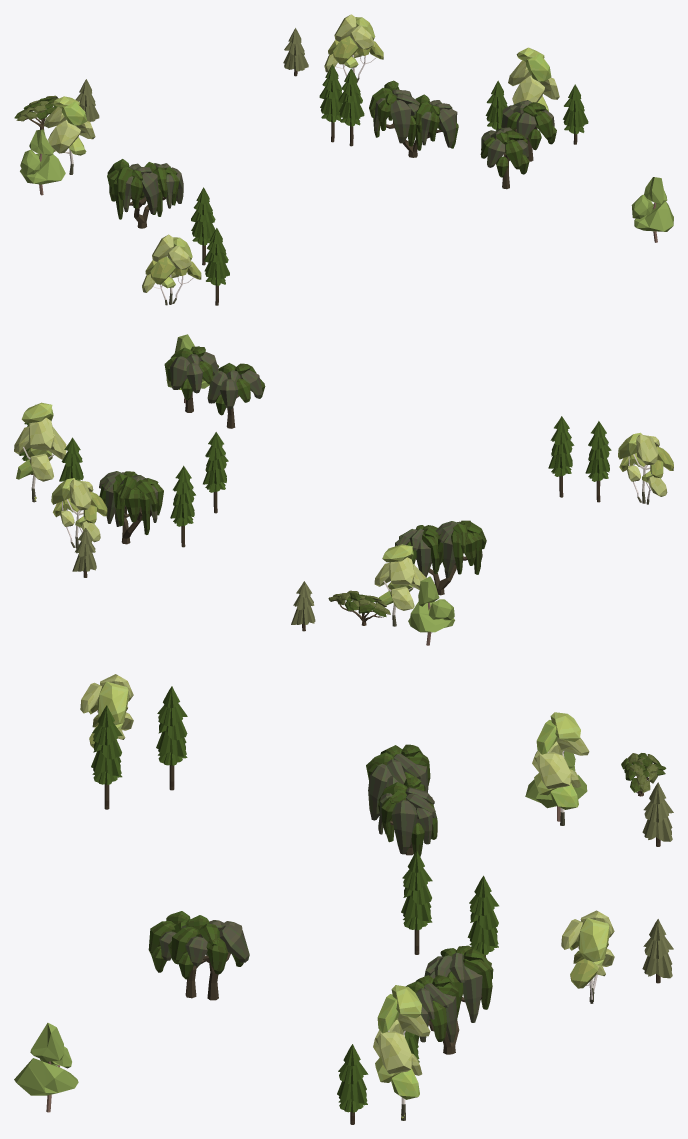
Rendered from trees2.gltf.
3 renders of one model, top to bottom at view 1: azimuth 30°, elevation 25°; view 2: azimuth 150°, elevation 25°; view 3: azimuth 270°, elevation 25°, orthographic. The views are drawn at different scales.
Parts seen in each view (by area): view 1: Tree Type6 04 (1), Tree Type6 04, Tree Type5 04, Tree Type5 04 (2), Tree Type5 03 (1), Tree Type5 03, Tree Type6 02 (1), Tree Type6 02, Tree Type4 01, Tree Type4 01 (1), Tree Type2 05 (2), Tree Type2 05 (1) (+7 smaller); view 2: Tree Type6 04, Tree Type6 04 (1), Tree Type5 03, Tree Type5 04, Tree Type5 04 (2), Tree Type5 03 (1), Tree Type6 02 (1), Tree Type6 02, Tree Type4 01 (1), Tree Type2 05 (2), Tree Type2 05 (3), Tree Type2 05 (+5 smaller); view 3: Tree Type6 04, Tree Type6 04 (1), Tree Type5 03, Tree Type6 02, Tree Type5 03 (1), Tree Type5 04 (2), Tree Type4 01, Tree Type5 04, Tree Type2 05, Tree Type2 05 (1), Tree Type2 05 (2), Tree Type2 05 (3) (+6 smaller).
Boxes of the visible parts, x1,y1,x2,y2 form: Tree Type6 04 (1): (369,80,458,157); Tree Type6 04: (107,159,183,228); Tree Type5 04: (142,234,201,305); Tree Type5 04 (2): (324,14,383,83); Tree Type5 03 (1): (43,96,95,174); Tree Type5 03: (508,47,559,128); Tree Type6 02 (1): (480,127,529,189); Tree Type6 02: (501,100,556,161); Tree Type4 01: (631,177,673,242); Tree Type4 01 (1): (20,129,65,195); Tree Type2 05 (2): (338,68,364,146); Tree Type2 05 (1): (204,228,229,305); Tree Type6 04: (395,520,486,595); Tree Type6 04 (1): (99,471,163,544); Tree Type5 03: (14,402,66,502); Tree Type5 04: (618,432,673,504); Tree Type5 04 (2): (51,478,107,548); Tree Type5 03 (1): (374,544,426,626); Tree Type6 02 (1): (207,363,265,428); Tree Type6 02: (164,346,218,412); Tree Type4 01 (1): (408,576,454,645); Tree Type2 05 (2): (203,432,228,513); Tree Type2 05 (3): (170,465,195,547); Tree Type2 05: (548,416,574,497); Tree Type6 04: (366,744,437,856); Tree Type6 04 (1): (406,945,493,1054); Tree Type5 03: (373,985,430,1120); Tree Type6 02: (168,915,249,1000); Tree Type5 03 (1): (532,712,589,825); Tree Type5 04 (2): (561,910,614,1003); Tree Type4 01: (14,1023,78,1112); Tree Type5 04: (80,674,133,748); Tree Type2 05: (156,686,187,790); Tree Type2 05 (1): (91,705,122,809); Tree Type2 05 (2): (401,851,432,954); Tree Type2 05 (3): (467,875,498,956).
Bounding box in the file's own units: 0.7959 × 0.1743 × 0.6424.
1 material, 1 textured.
